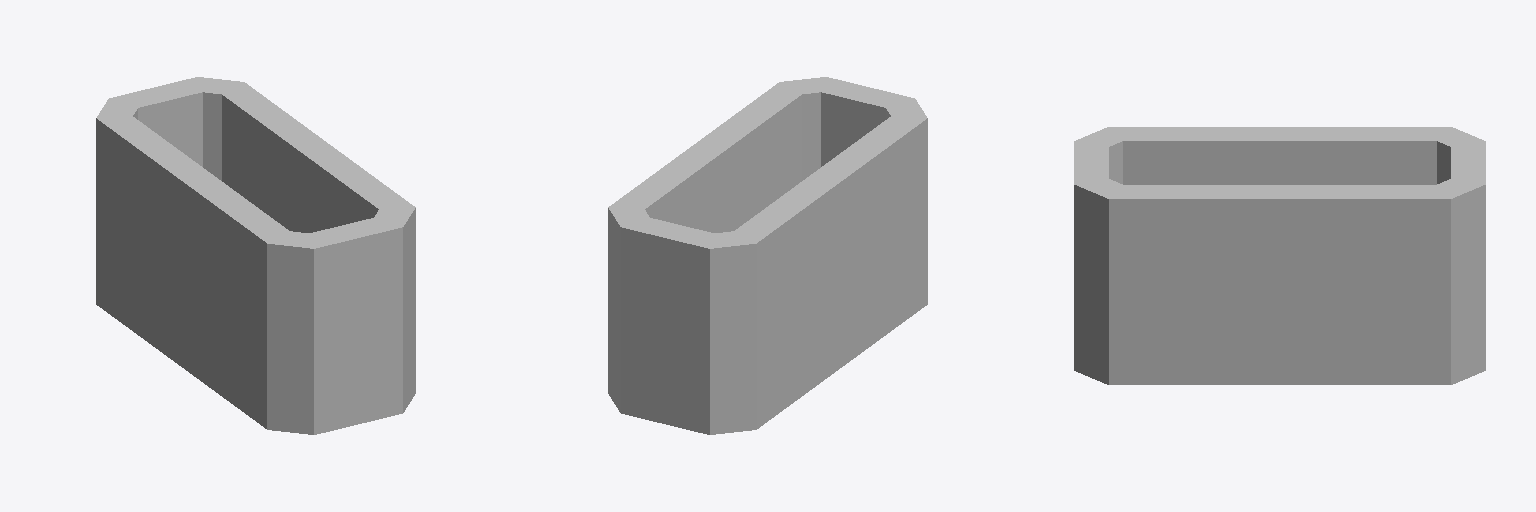
File: externalWallsScenario1.obj
3 views of the same model, side by side, from view 1: azimuth 30°, elevation 25°; view 2: azimuth 150°, elevation 25°; view 3: azimuth 270°, elevation 25° (orthographic).
Parts seen in each view (by area): view 1: externalWalls_Cube; view 2: externalWalls_Cube; view 3: externalWalls_Cube.
Part boxes in pixels (left/top/right/bottom): externalWalls_Cube: left=96, top=77, right=415, bottom=434; externalWalls_Cube: left=608, top=77, right=927, bottom=434; externalWalls_Cube: left=1074, top=127, right=1485, bottom=384.
Size of the model in its own units: 5 by 6 by 12.